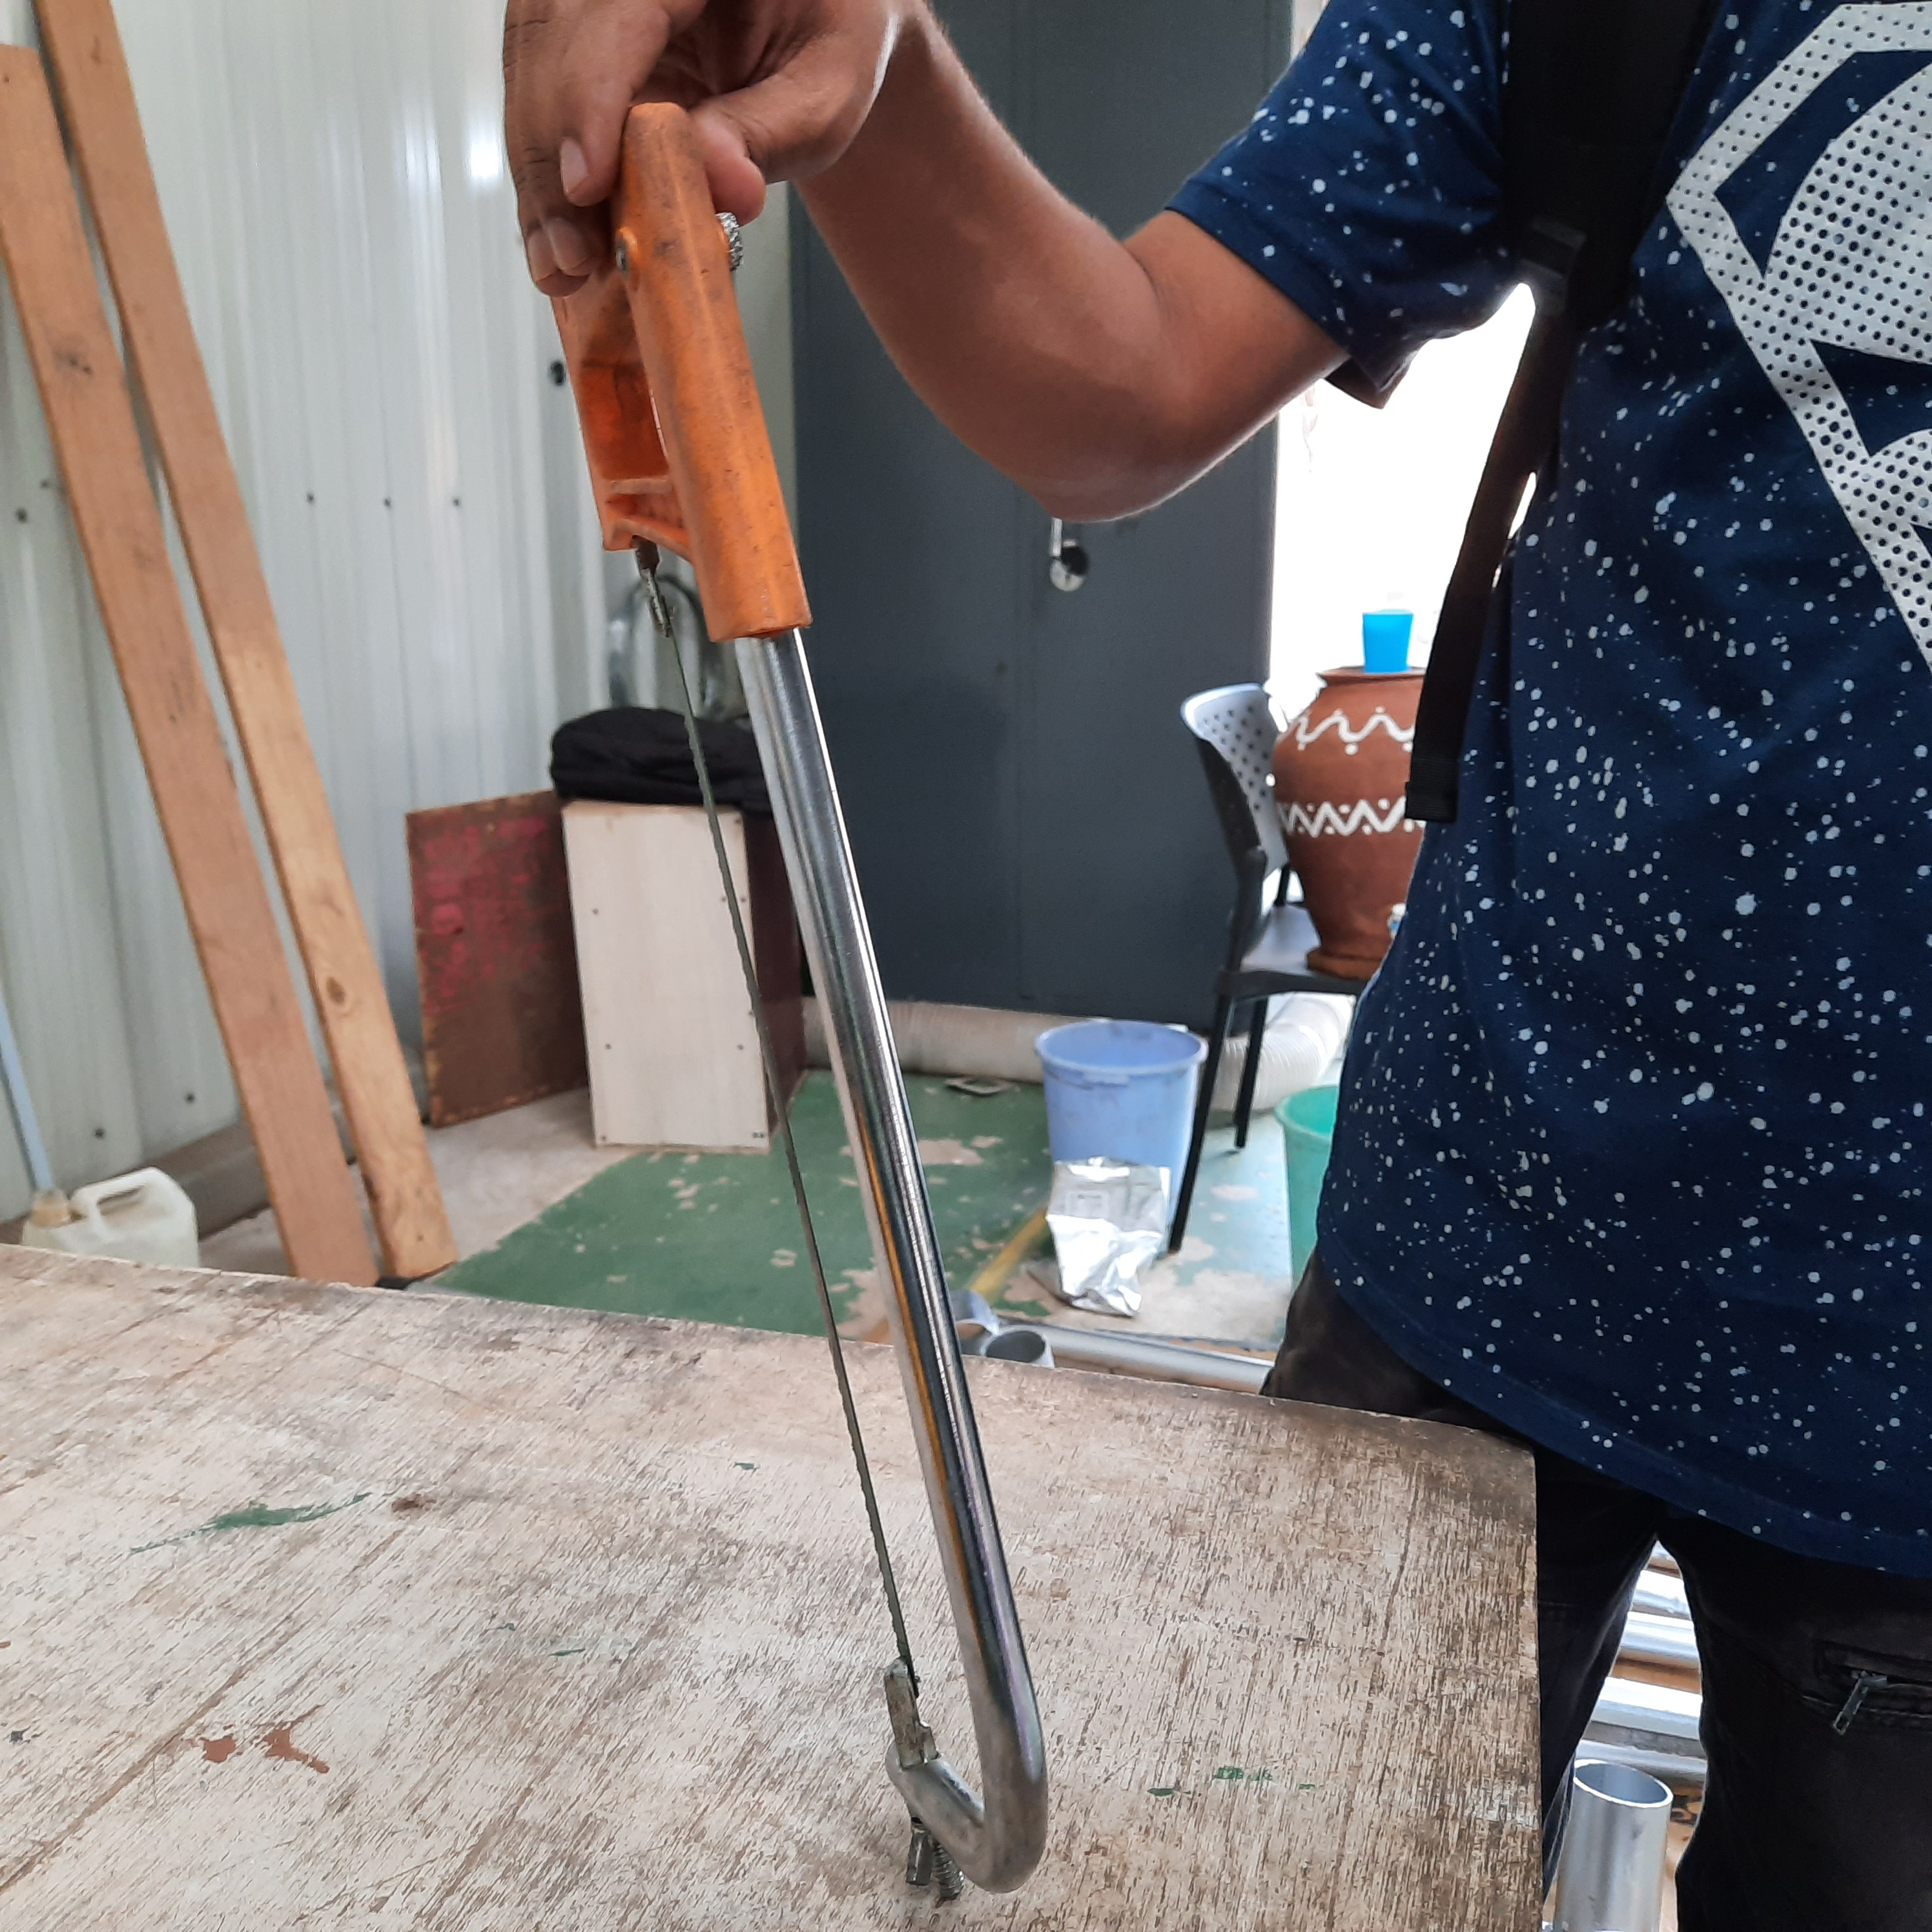Hexaframe: (497, 104, 1184, 1916)
